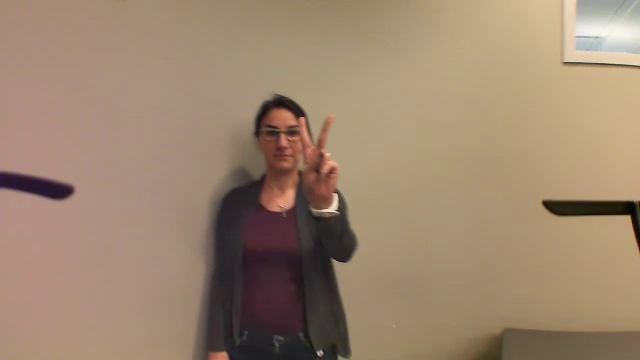peace: (292, 115, 341, 199)
